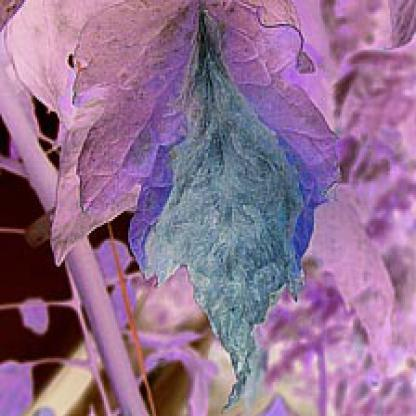Tomato mold leaf: (70, 8, 334, 412)
